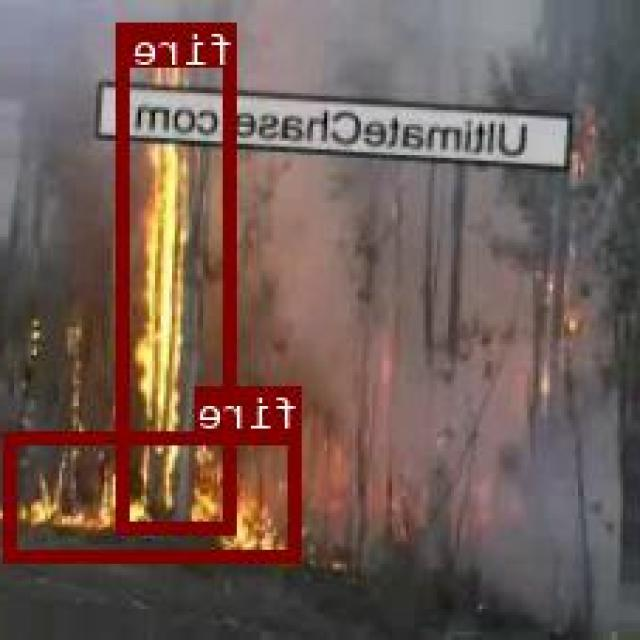fire: (120, 20, 240, 532), (5, 430, 304, 559)
